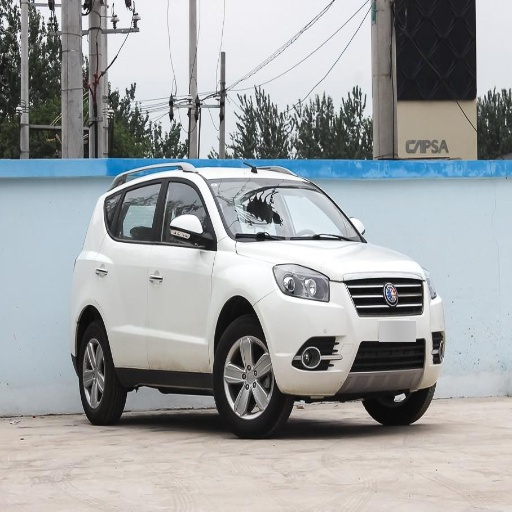front_bumper: (261, 278, 446, 397)
front_right_door: (148, 174, 217, 370)
front_right_light: (274, 264, 330, 301)
